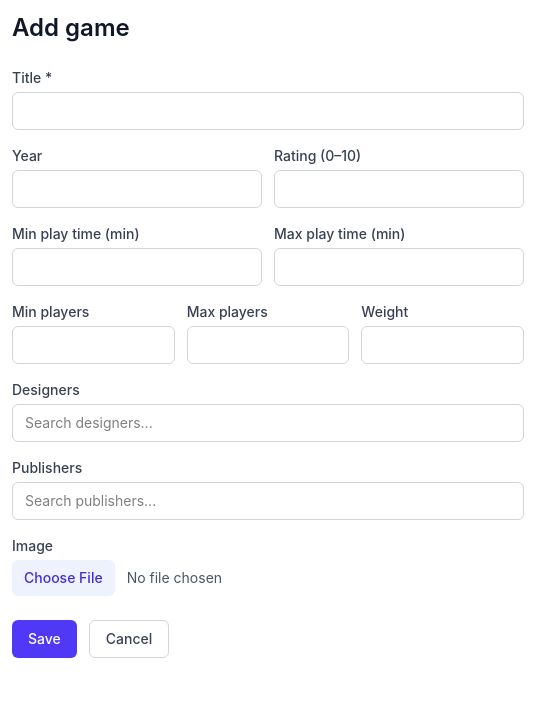
Test: BoardGameFormPage - create mode › allows selecting a designer via combobox
Typing opens the Headless UI combobox dropdown in jsdom
Step 1. Type "Uwe" into the dropdown with placeholder "Search designers..." → (268, 423), box left=12, top=404, right=524, bottom=442
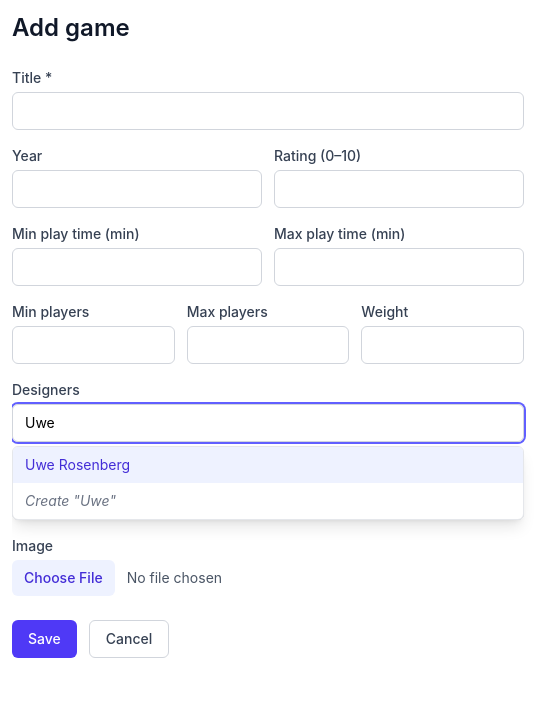
Step 2. Click the option "Uwe Rosenberg" → (78, 464), box left=13, top=447, right=523, bottom=483
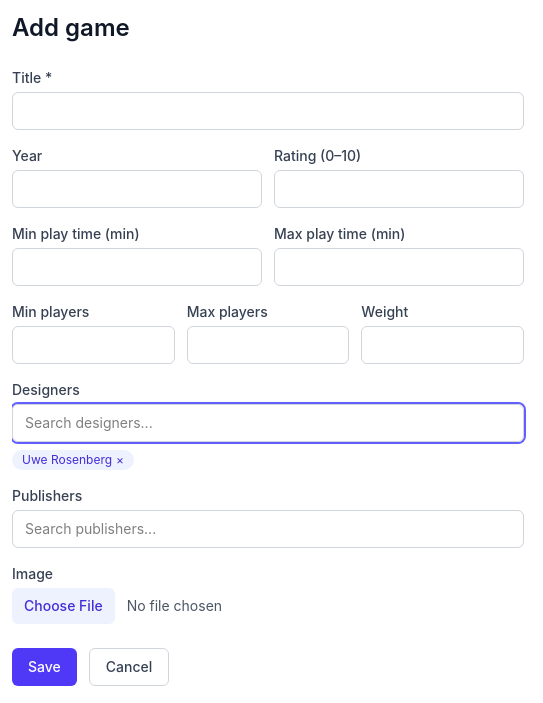
Expected: the text "Uwe Rosenberg" is shown, left=22, top=452, right=112, bottom=467
